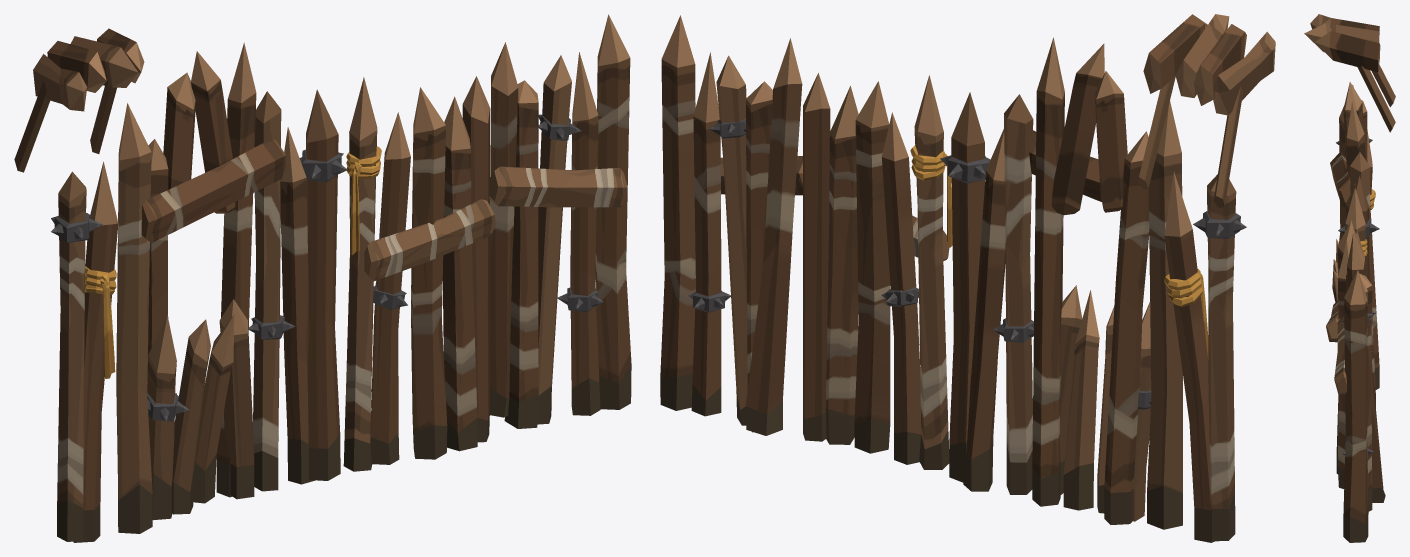
File: bog_wall_d.gltf
3 views of the same model, side by side, from view 1: azimuth 30°, elevation 25°; view 2: azimuth 150°, elevation 25°; view 3: azimuth 270°, elevation 25° (orthographic). The views are drawn at different scales.
Parts seen in each view (by area): view 1: bog_wall_d; view 2: bog_wall_d; view 3: bog_wall_d.
Boxes of the visible parts, x1,y1,x2,y2 form: bog_wall_d: (14,14,631,542); bog_wall_d: (660,14,1275,542); bog_wall_d: (1304,14,1395,542).
Size of the model in its own units: 9.16 by 7.53 by 1.81.
1 material, 1 textured.
